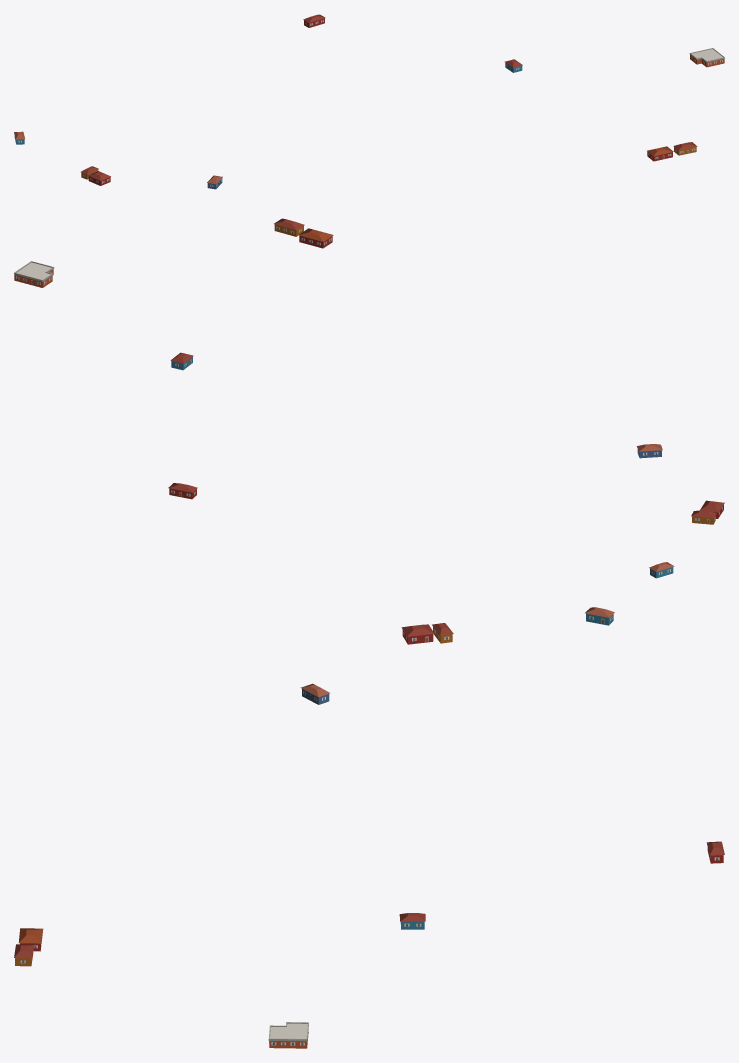
The model's file is msb_oranjestad_m12_m4.glb.
3 views of the same model, one above another, from view 1: azimuth 30°, elevation 25°; view 2: azimuth 150°, elevation 25°; view 3: azimuth 270°, elevation 25° (orthographic). The views are drawn at different scales.
Visible parts, largest first — view 1: msb_oranjestad_m12_m4_lod0; view 2: msb_oranjestad_m12_m4_lod0; view 3: msb_oranjestad_m12_m4_lod0.
Part boxes in pixels (bbox=[...]): msb_oranjestad_m12_m4_lod0: bbox=[14, 14, 724, 189]; msb_oranjestad_m12_m4_lod0: bbox=[14, 218, 724, 578]; msb_oranjestad_m12_m4_lod0: bbox=[14, 607, 724, 1048].
Size of what is drawn, in the model's own units: 405 by 13.24 by 270.
3 materials, 1 textured.
